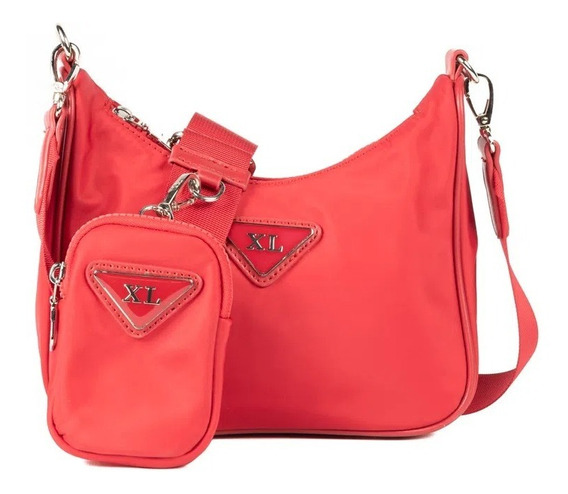cartera: (35, 23, 483, 441)
